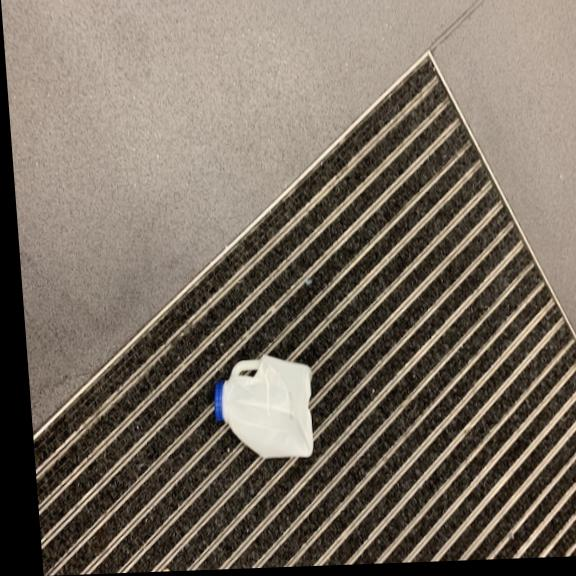Plastik: (205, 349, 319, 465)
